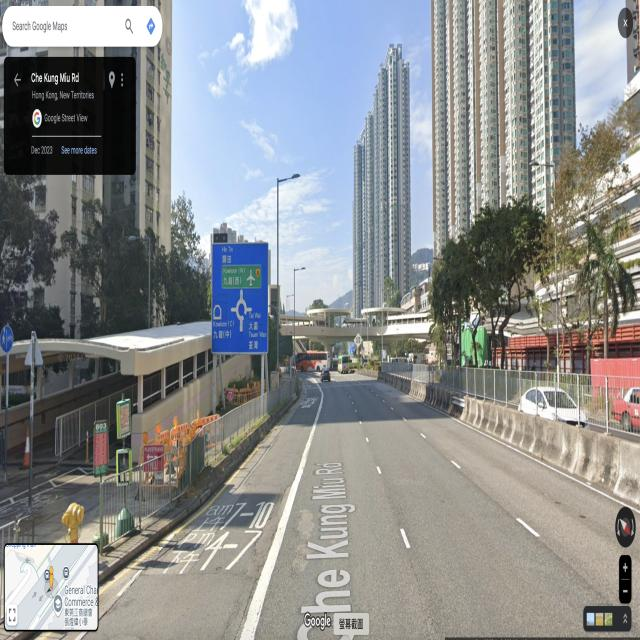Direction-Sign: (213, 245, 267, 350)
Order-Sign: (1, 325, 13, 352)
